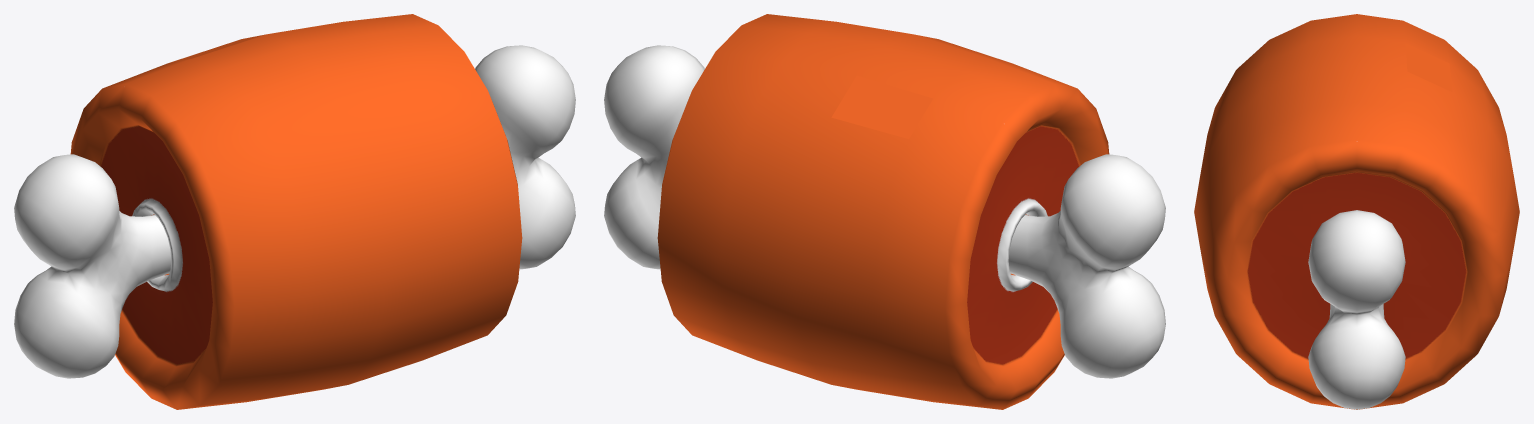
Rendered from Meat.fbx.
3 views of the same model, side by side, from view 1: azimuth 30°, elevation 25°; view 2: azimuth 150°, elevation 25°; view 3: azimuth 270°, elevation 25° (orthographic). The views are drawn at different scales.
Visible parts, largest first — view 1: group2pCylinder14, group2polySurface223; view 2: group2pCylinder14, group2polySurface223; view 3: group2pCylinder14, group2polySurface223.
Part boxes in pixels (x1,y1,x2,y2): group2pCylinder14: (70, 14, 522, 409); group2polySurface223: (14, 45, 575, 378); group2pCylinder14: (657, 14, 1109, 409); group2polySurface223: (604, 45, 1165, 378); group2pCylinder14: (1194, 14, 1519, 409); group2polySurface223: (1308, 210, 1405, 409).
Bounding box in the file's own units: 86.94 × 50.08 × 50.08.
Materials: 1 (1 with a texture image).
